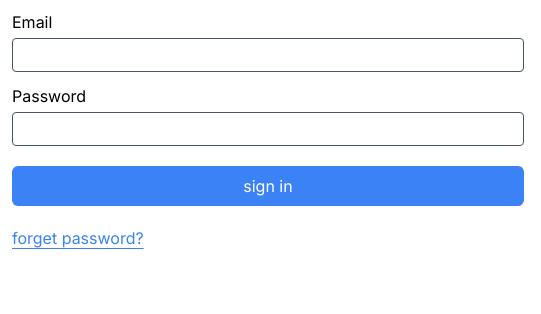
<SignInForm /> component tests › should display required error when form submitted with no values
This screenshot has width=541, height=314.
Click the button. click: click(268, 186)
box: top-left (12, 166), bottom-right (524, 206)
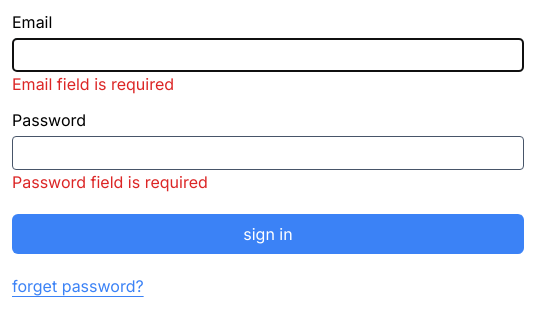
Expected: the text "Email field is required" is shown, top-left (12, 74), bottom-right (174, 94)
Expected: the text "Password field is required" is shown, top-left (12, 172), bottom-right (208, 192)
